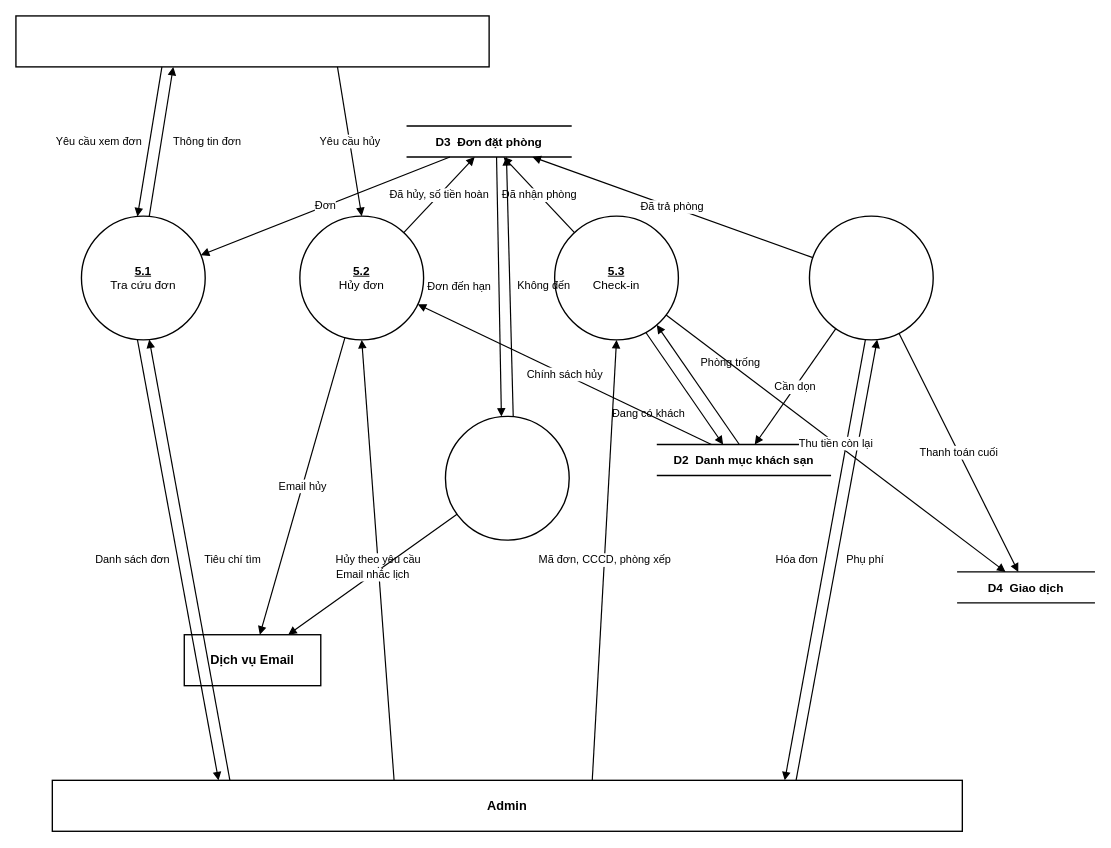
The diagram is 1111 pixels wide and 848 high, and some of its shapes have lost their labels. The shapes that lost their labels are listed below. From the top down, each one's box as (x1, y1, x2, y2) in pixels, then its label:
(15, 15, 489, 67): Khách hàng (User)
(808, 215, 933, 340): 5.4 Check-out
(444, 415, 569, 540): 5.5 Xử lý theo ngày
